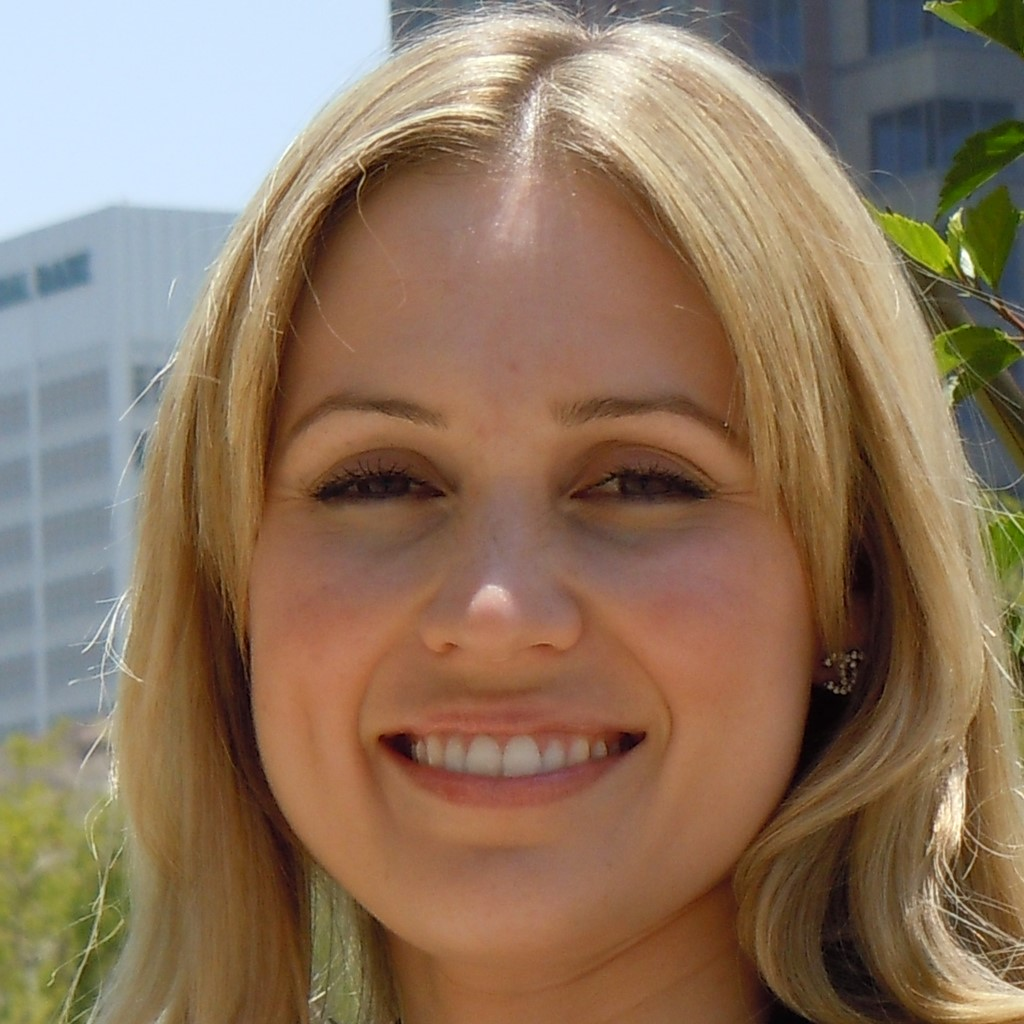sin_mascara: (205, 111, 862, 994)
